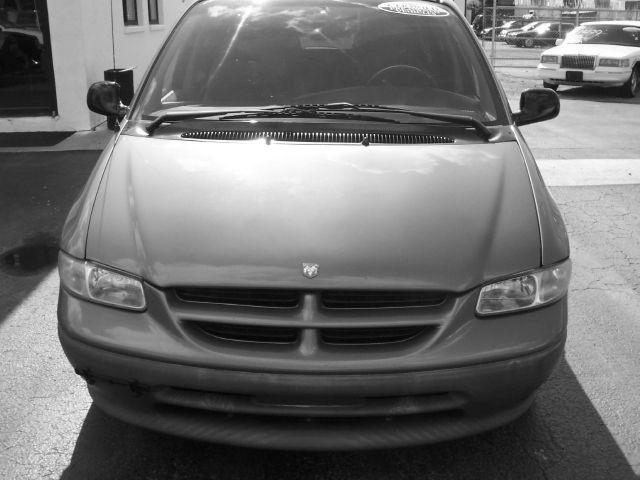car: (43, 1, 589, 458)
